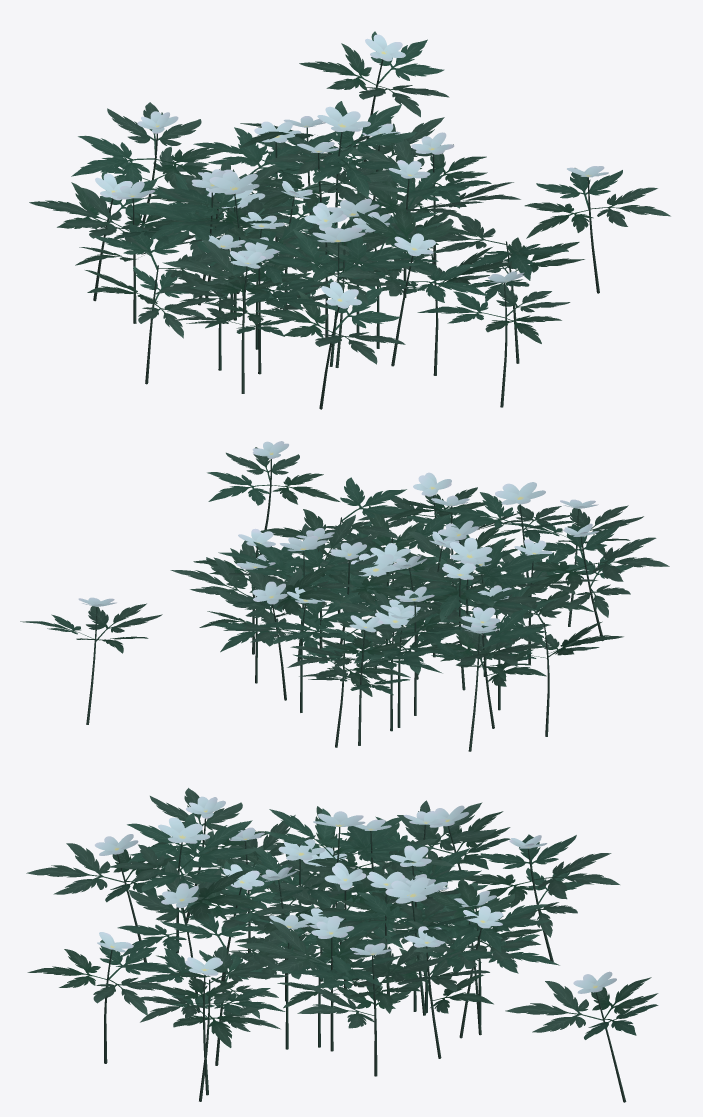
Rendered from Export_Flower_Vitsippa.fbx.
The picture shows the model from 3 angles, top to bottom: view 1: azimuth 30°, elevation 25°; view 2: azimuth 150°, elevation 25°; view 3: azimuth 270°, elevation 25°; orthographic projection. The views are drawn at different scales.
Parts seen in each view (by area): view 1: OBJ_Flower_Vitsippa_02, OBJ_Flower_Vitsippa_01, OBJ_Flower_Vitsippa_03; view 2: OBJ_Flower_Vitsippa_02, OBJ_Flower_Vitsippa_01, OBJ_Flower_Vitsippa_03; view 3: OBJ_Flower_Vitsippa_02, OBJ_Flower_Vitsippa_01, OBJ_Flower_Vitsippa_03.
Part boxes in pixels (x1,y1,x2,y2): OBJ_Flower_Vitsippa_02: (29,102,670,407); OBJ_Flower_Vitsippa_01: (38,101,511,393); OBJ_Flower_Vitsippa_03: (142,31,520,409); OBJ_Flower_Vitsippa_02: (207,441,623,751); OBJ_Flower_Vitsippa_01: (212,506,669,747); OBJ_Flower_Vitsippa_03: (20,499,643,731); OBJ_Flower_Vitsippa_02: (27,805,619,1101); OBJ_Flower_Vitsippa_01: (127,788,559,1065); OBJ_Flower_Vitsippa_03: (26,808,658,1102).
Size of the model in its own units: 166 by 54.64 by 182.
1 material, 1 textured.
